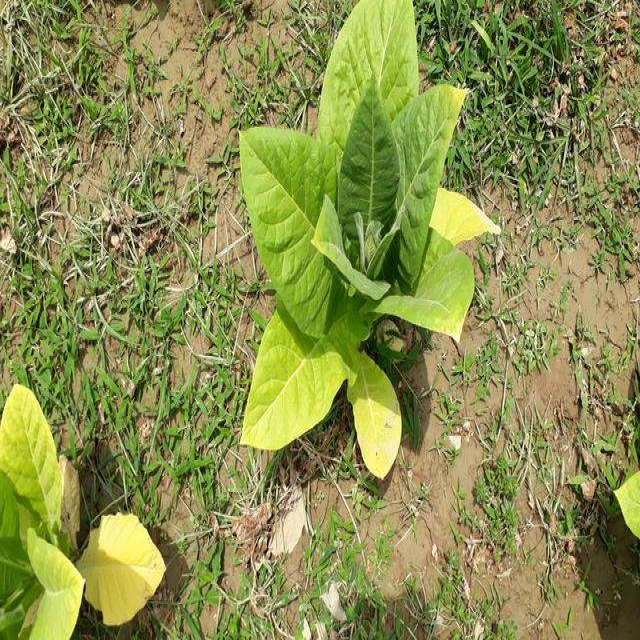crop: (232, 0, 496, 462), (0, 389, 164, 640)
